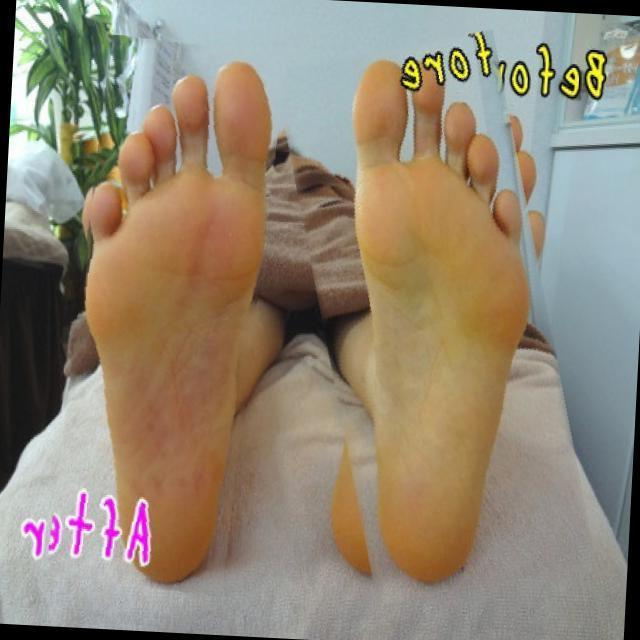No_Shoes: (330, 46, 543, 589), (67, 44, 271, 576)
